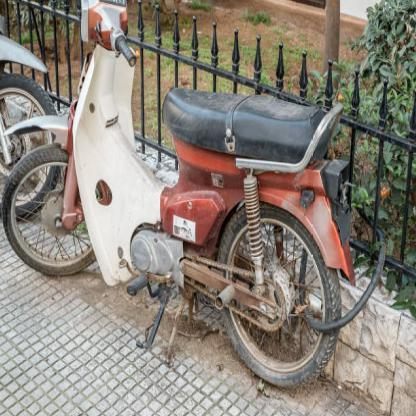Motorcycle: (1, 0, 369, 389)
